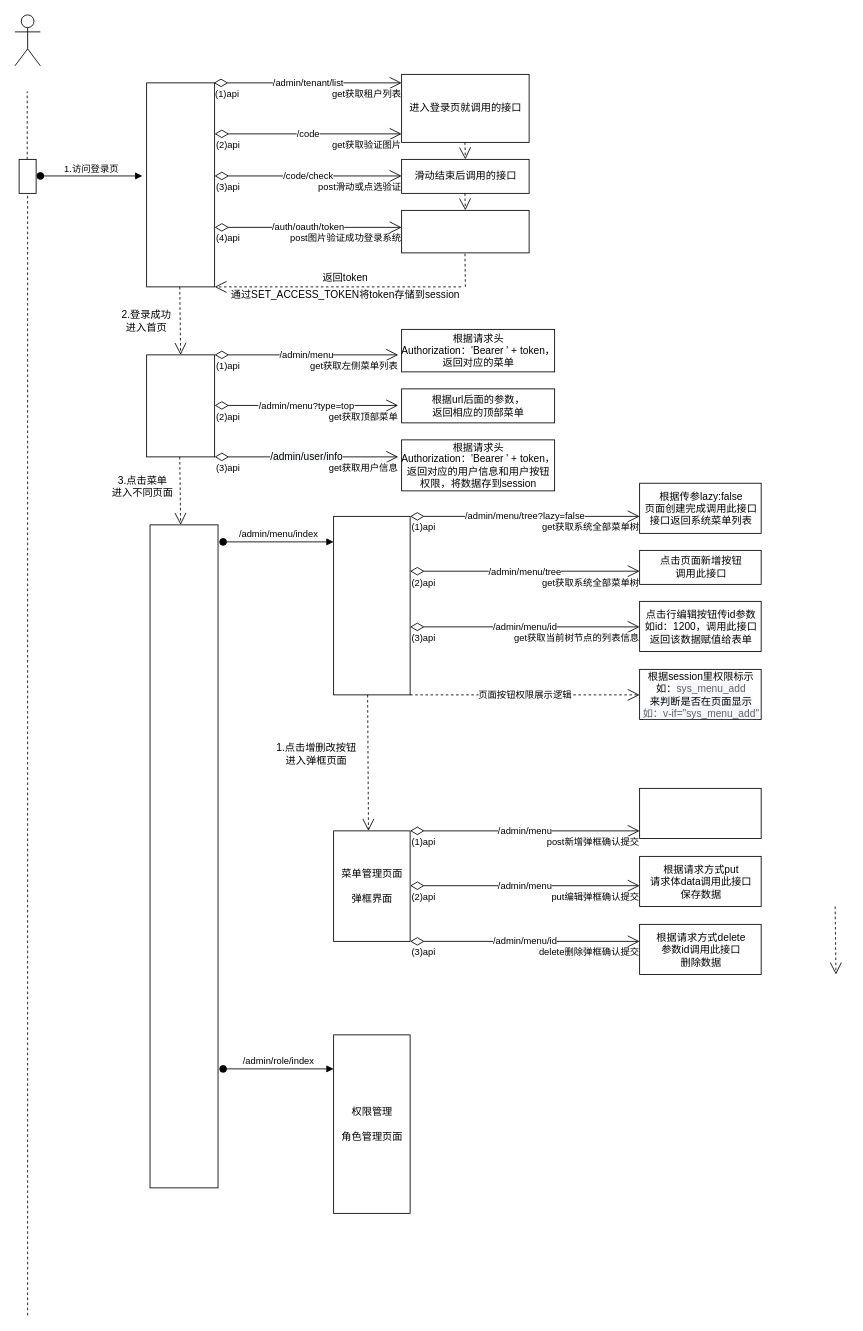
This 863x1331 diagram has some shape labels left out. The shapes that lost their labels are listed below. From the top down, each one's centre as x and y in pixels, then its label:
At (27,40): "用户".
At (180,184): "登录界面".
At (465,231): "图片验证成功后调用的接口".
At (180,405): "系统首页".
At (371,605): "权限管理 菜单管理页面".
At (700,813): "根据请求方式post 请求体data调用此接口 保存数据".
At (183,856): "菜单页面".
